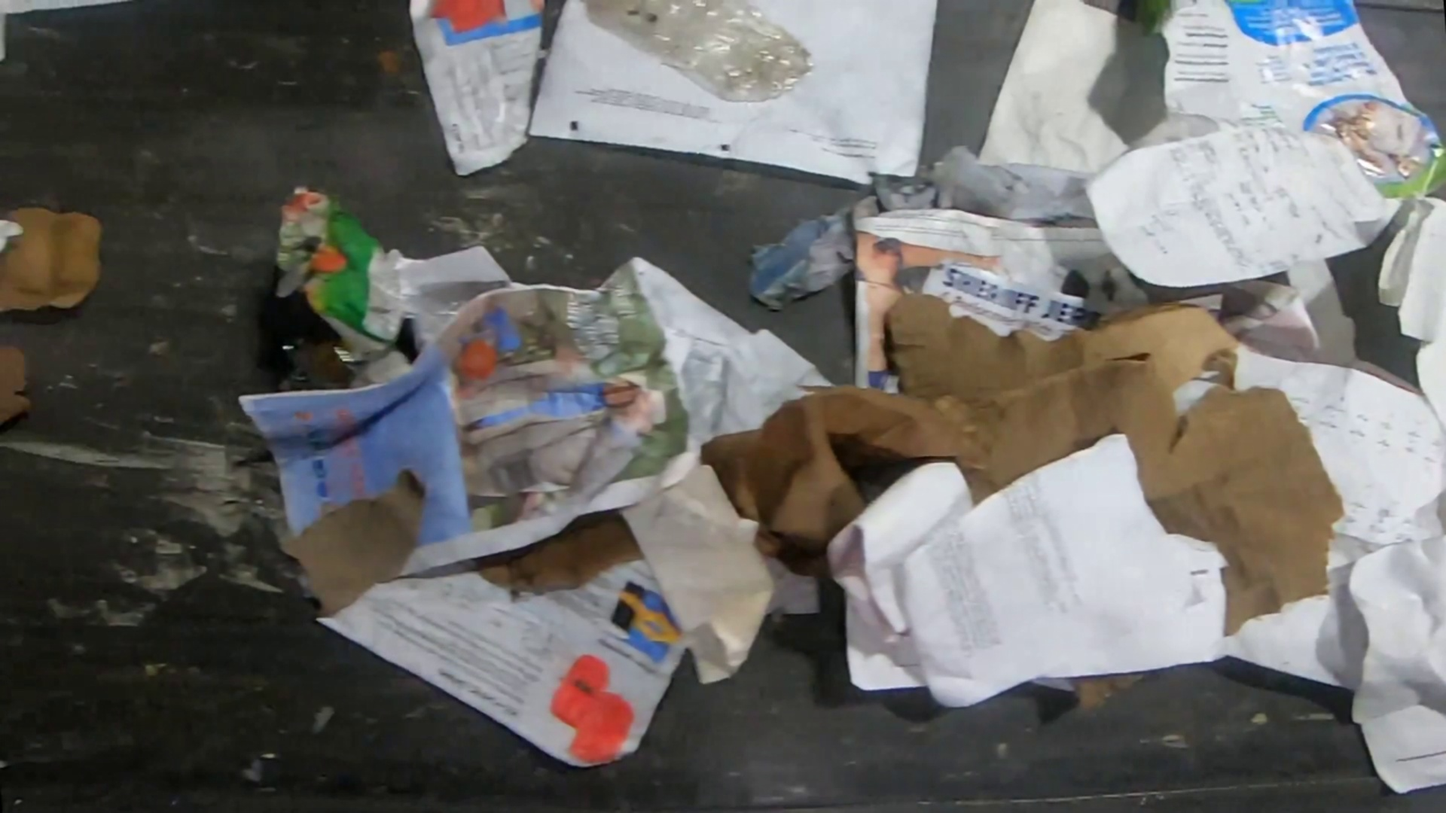cardboard: (701, 291, 1344, 635), (273, 185, 419, 364), (0, 205, 105, 316), (0, 344, 34, 428)
plastic: (580, 0, 816, 104)
